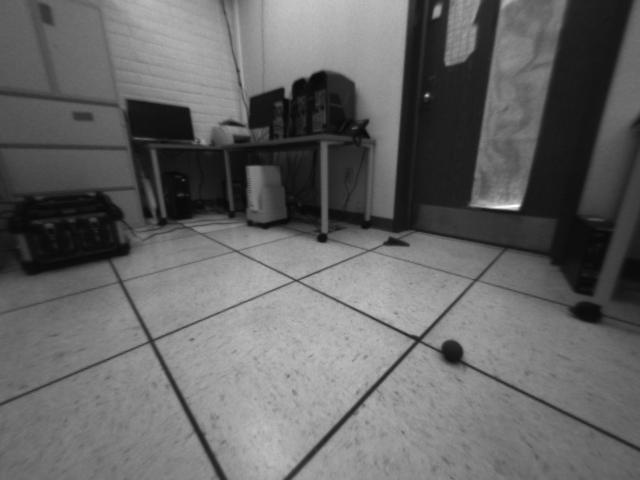dogtoy: (437, 334, 468, 371)
